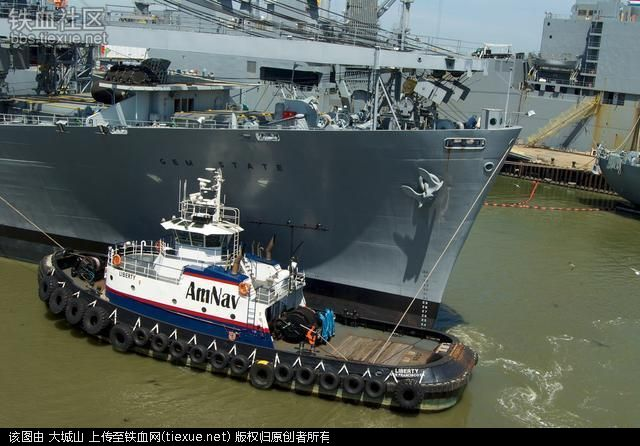otherboat: (37, 165, 485, 414)
